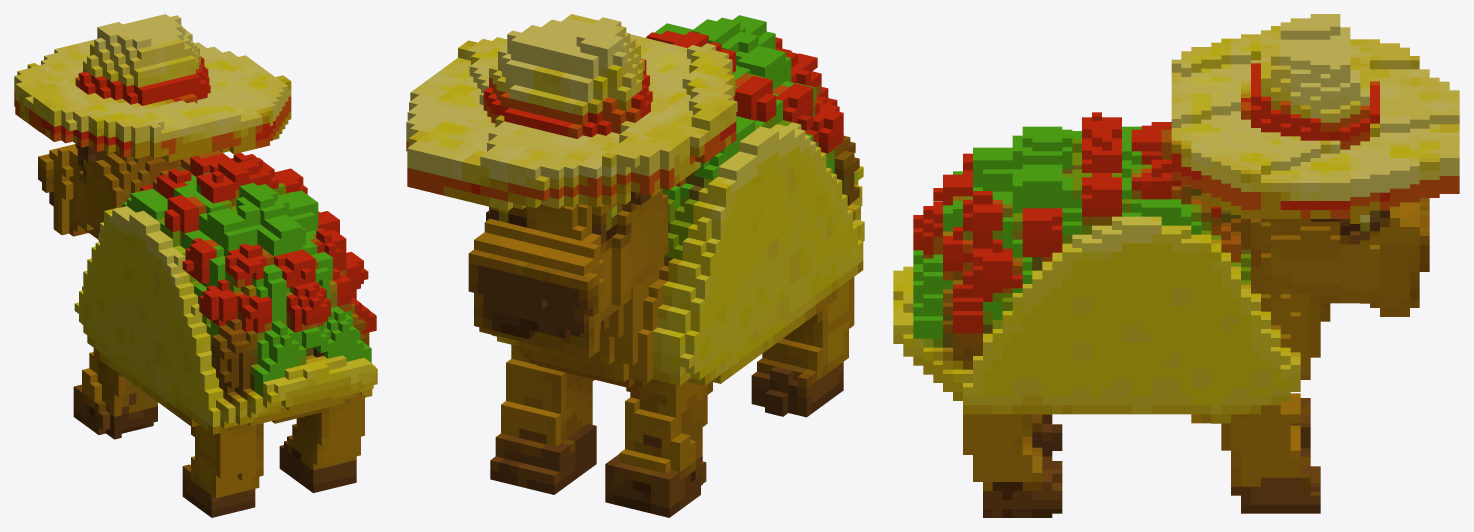
File: CapibaraTacoloco.glb
3 renders of one model, left to right at view 1: azimuth 30°, elevation 25°; view 2: azimuth 150°, elevation 25°; view 3: azimuth 270°, elevation 25°, orthographic. The views are drawn at different scales.
Visible parts, largest first — view 1: geometry_0; view 2: geometry_0; view 3: geometry_0.
Part boxes in pixels (x1,y1,x2,y2): geometry_0: (14, 14, 377, 517); geometry_0: (406, 14, 864, 517); geometry_0: (893, 14, 1459, 517).
Bounding box in the file's own units: 0.6327 × 1 × 1.16.
